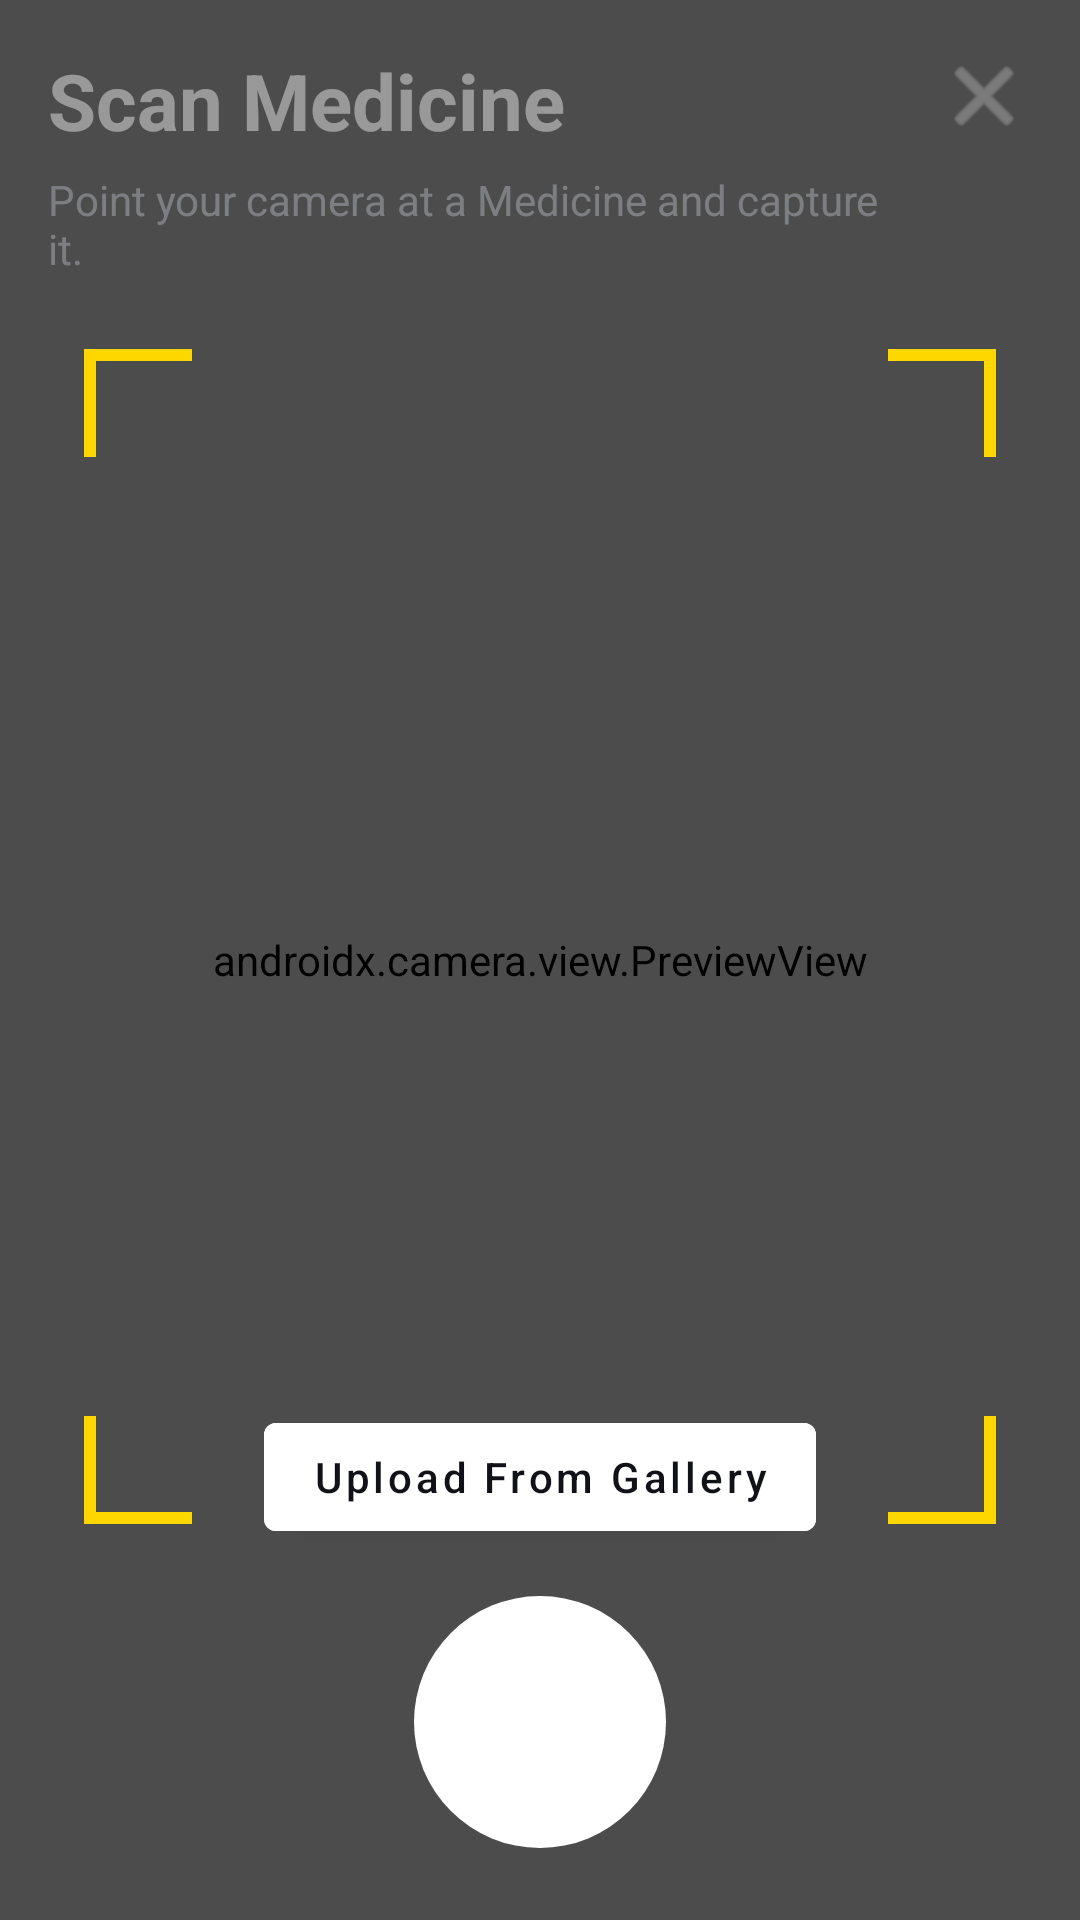

Where to tap for icons on this 1080px×1920px app screen, as [x,y]:
Close: [984,96]
